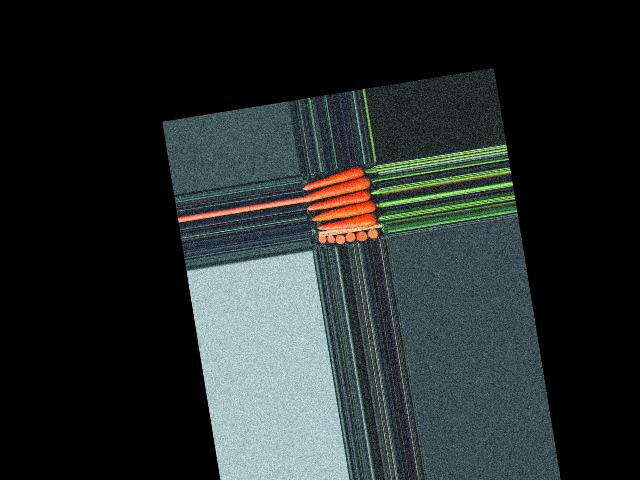carrot: (313, 212, 383, 237)
